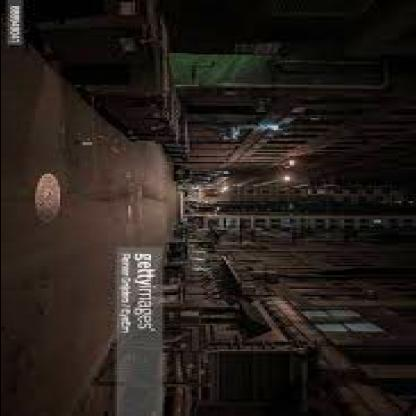manholes: (18, 165, 75, 233)
